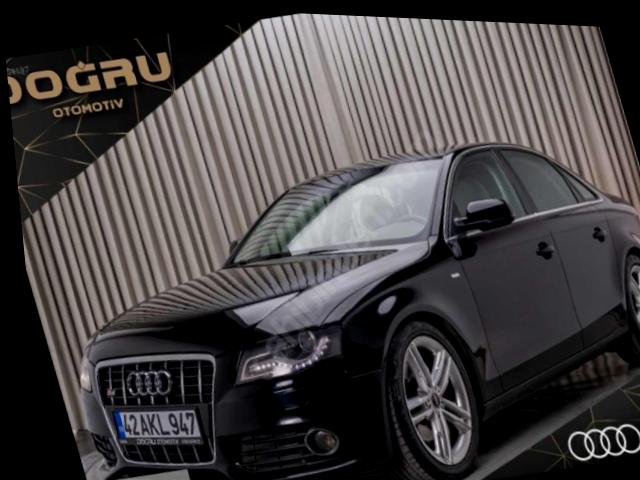plaka: (110, 406, 203, 444)
